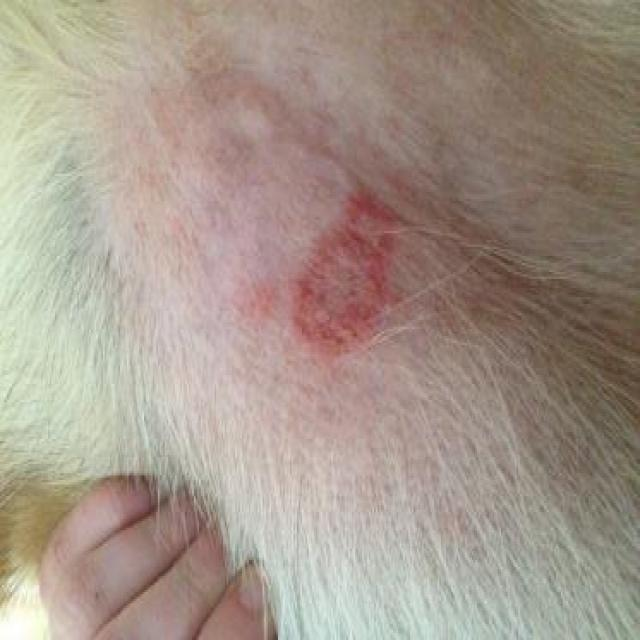allergic dermatitis: (252, 169, 413, 385)
